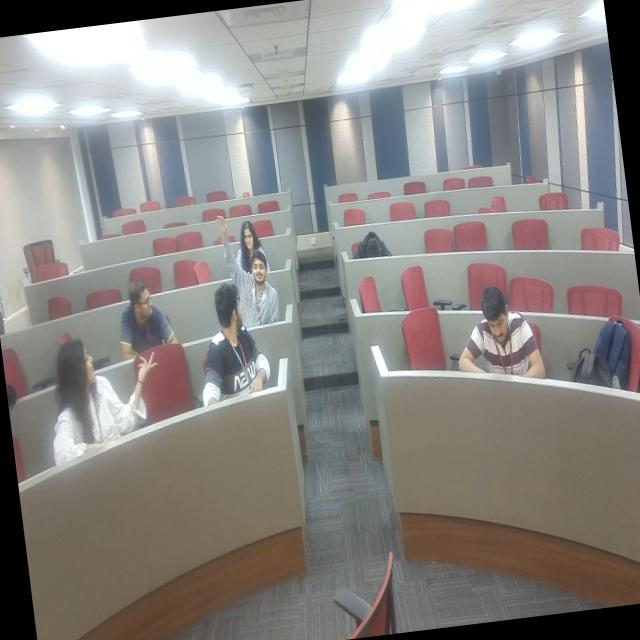non-cheating: (203, 196, 290, 329)
